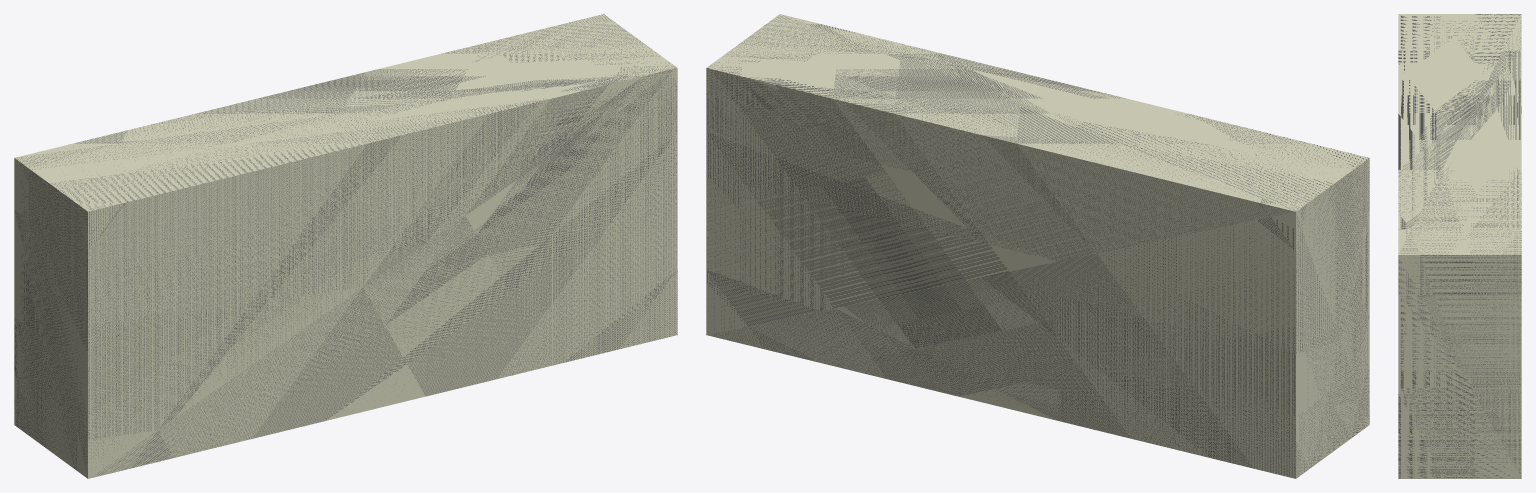
The model's file is original-65.obj.
The picture shows the model from 3 angles, left to right: view 1: azimuth 30°, elevation 25°; view 2: azimuth 150°, elevation 25°; view 3: azimuth 270°, elevation 25°; orthographic projection. The views are drawn at different scales.
Parts seen in each view (by area): view 1: mesh52/mesh52-geometry/material_4/component_2#mesh52-geometry; view 2: mesh52/mesh52-geometry/material_4/component_2#mesh52-geometry; view 3: mesh52/mesh52-geometry/material_4/component_2#mesh52-geometry.
Boxes of the visible parts, box(x1,y1,x2,y2) form: mesh52/mesh52-geometry/material_4/component_2#mesh52-geometry: box(14, 14, 677, 478); mesh52/mesh52-geometry/material_4/component_2#mesh52-geometry: box(706, 14, 1369, 478); mesh52/mesh52-geometry/material_4/component_2#mesh52-geometry: box(1398, 14, 1521, 478).
Size of the model in its own units: 0.1834 by 0.0794 by 0.0397.
